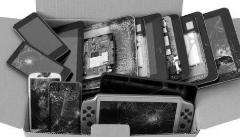electronic: (94, 63, 208, 116), (73, 90, 200, 137), (8, 12, 74, 66), (4, 38, 76, 87)
